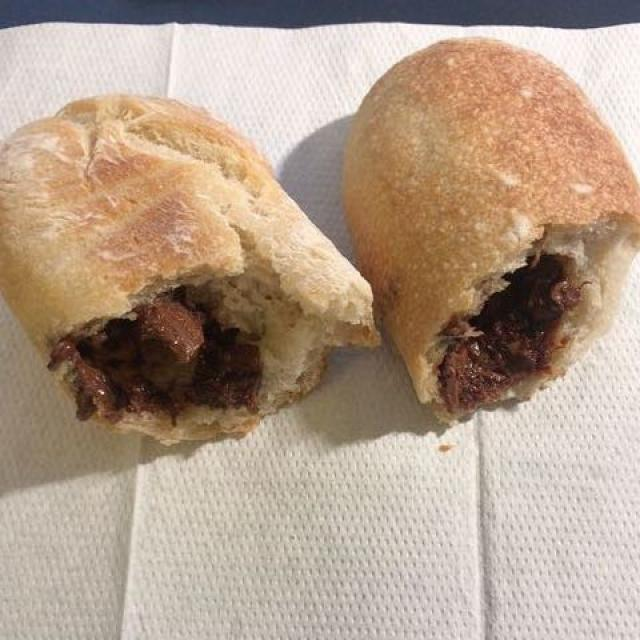bread-sourdough: (10, 95, 367, 437)
chocolate: (327, 252, 591, 420), (73, 276, 327, 422)
